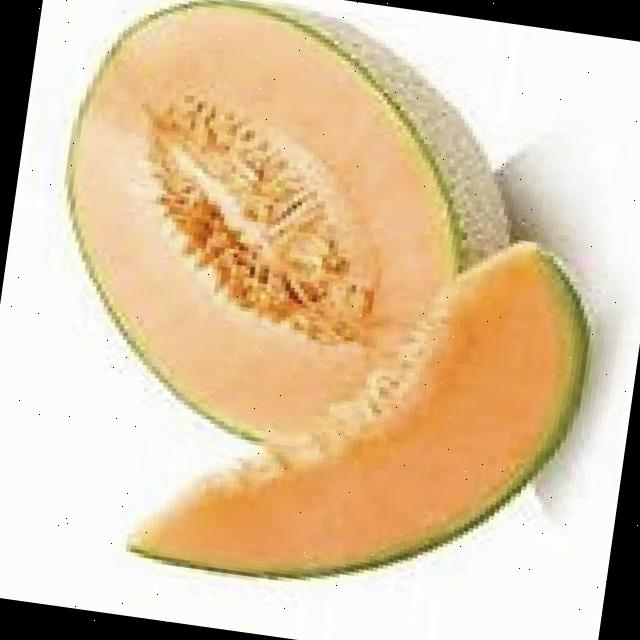Hami Melon: (32, 0, 540, 472)
